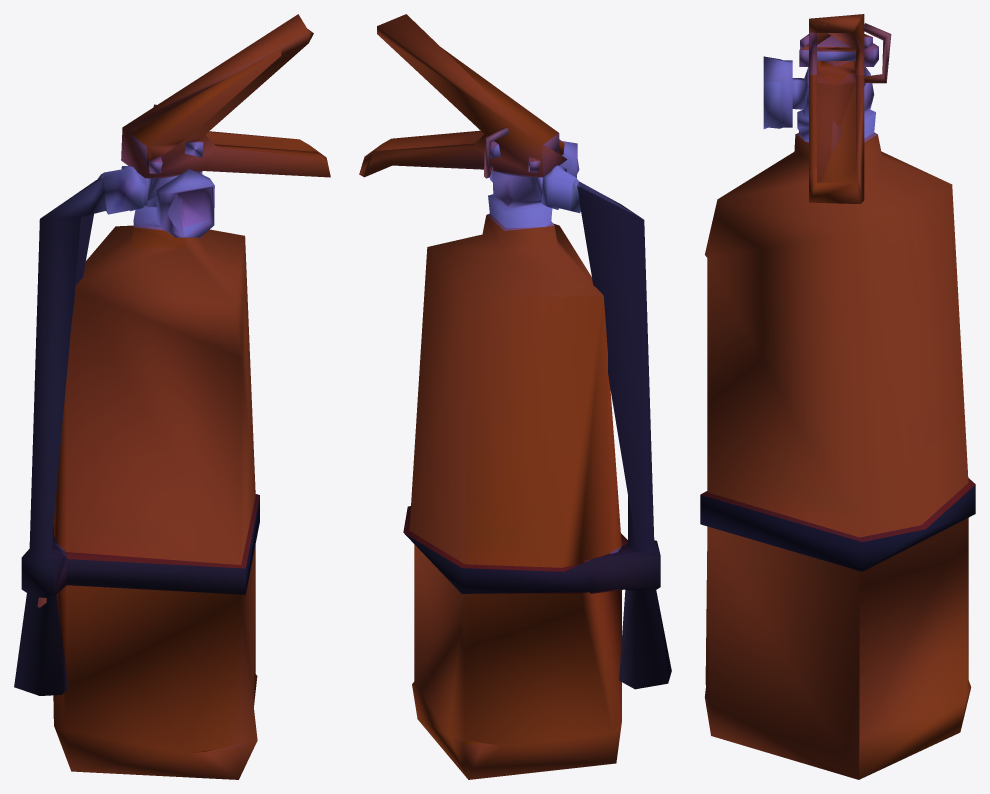
File: model.progressive.glb
3 renders of one model, left to right at view 1: azimuth 30°, elevation 25°; view 2: azimuth 150°, elevation 25°; view 3: azimuth 270°, elevation 25°, orthographic. The views are drawn at different scales.
Parts seen in each view (by area): view 1: FireExtinguisher3; view 2: FireExtinguisher3; view 3: FireExtinguisher3.
Part boxes in pixels (left/top/right/bottom): FireExtinguisher3: left=14, top=14, right=330, bottom=779; FireExtinguisher3: left=359, top=14, right=671, bottom=779; FireExtinguisher3: left=700, top=14, right=975, bottom=779.
Bounding box in the file's own units: 0.8573 × 1.87 × 0.5937.
Materials: 1 (1 with a texture image).
